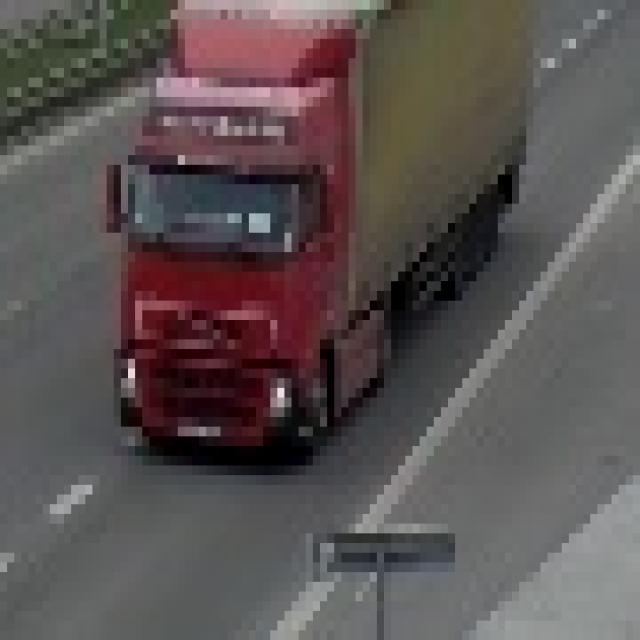TRUCK: (102, 0, 531, 462)
